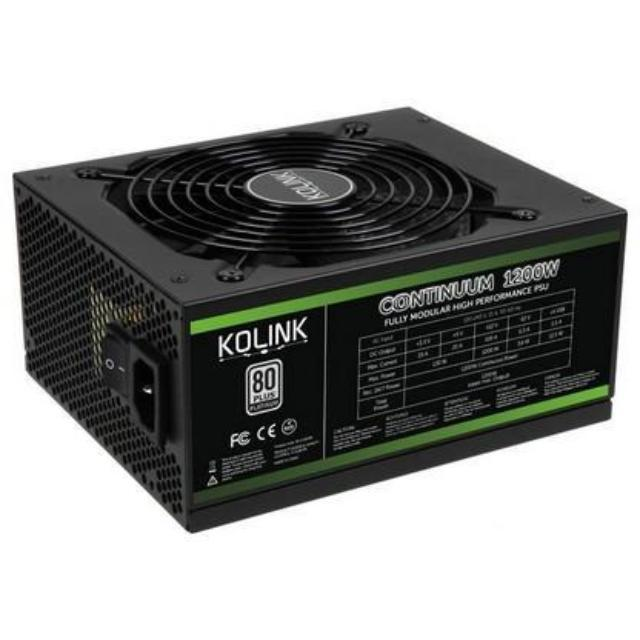PSU: (0, 70, 638, 532)
